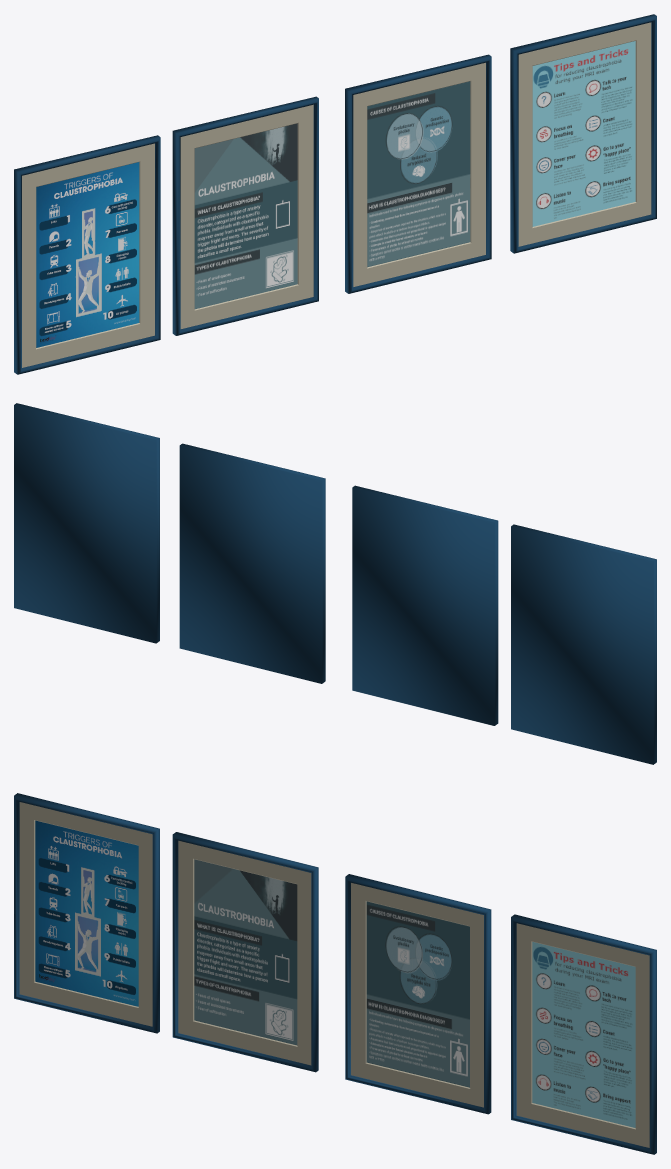
Rendered from Poster.fbx.
3 renders of one model, top to bottom at view 1: azimuth 30°, elevation 25°; view 2: azimuth 150°, elevation 25°; view 3: azimuth 330°, elevation 25°, orthographic.
Visible parts, largest first — view 1: SketchUp.002_ID19, SketchUp.002_ID19.002, SketchUp.002_ID19.001, SketchUp.002_ID19.003, SketchUp.001_ID11.003, SketchUp.001_ID11, SketchUp.001_ID11.001, SketchUp.001_ID11.002, SketchUp_ID3.002, SketchUp_ID3.003, SketchUp_ID3, SketchUp_ID3.001 (+4 smaller); view 2: SketchUp_ID3.002, SketchUp_ID3, SketchUp_ID3.003, SketchUp_ID3.001; view 3: SketchUp.002_ID19, SketchUp.002_ID19.002, SketchUp.002_ID19.001, SketchUp.002_ID19.003, SketchUp.001_ID11, SketchUp.001_ID11.003, SketchUp.001_ID11.001, SketchUp.001_ID11.002, SketchUp_ID3, SketchUp_ID3.002, SketchUp_ID3.003, SketchUp_ID3.001 (+4 smaller).
Boxes of the visible parts, <box> form: SketchUp.002_ID19: <box>194,123,297,309</box>; SketchUp.002_ID19.002: <box>367,81,470,267</box>; SketchUp.002_ID19.001: <box>36,162,139,347</box>; SketchUp.002_ID19.003: <box>532,41,635,226</box>; SketchUp.001_ID11.003: <box>518,22,651,246</box>; SketchUp.001_ID11: <box>180,104,313,328</box>; SketchUp.001_ID11.001: <box>22,143,154,367</box>; SketchUp.001_ID11.002: <box>353,62,485,286</box>; SketchUp_ID3.002: <box>345,54,491,293</box>; SketchUp_ID3.003: <box>510,14,656,253</box>; SketchUp_ID3: <box>172,96,318,335</box>; SketchUp_ID3.001: <box>14,135,160,374</box>; SketchUp_ID3.002: <box>179,443,325,683</box>; SketchUp_ID3: <box>352,485,498,725</box>; SketchUp_ID3.003: <box>14,403,159,643</box>; SketchUp_ID3.001: <box>511,524,656,764</box>; SketchUp.002_ID19: <box>194,859,297,1045</box>; SketchUp.002_ID19.002: <box>366,901,469,1087</box>; SketchUp.002_ID19.001: <box>35,820,138,1006</box>; SketchUp.002_ID19.003: <box>532,942,635,1127</box>; SketchUp.001_ID11: <box>178,840,311,1065</box>; SketchUp.001_ID11.003: <box>516,923,649,1147</box>; SketchUp.001_ID11.001: <box>19,802,152,1026</box>; SketchUp.001_ID11.002: <box>351,883,483,1107</box>; SketchUp_ID3: <box>172,832,318,1072</box>; SketchUp_ID3.002: <box>345,874,491,1114</box>; SketchUp_ID3.003: <box>511,914,656,1154</box>; SketchUp_ID3.001: <box>14,793,159,1033</box>.
Size of the model in its own units: 41587 by 12600 by 500.
Materials: 6 (4 with a texture image).
